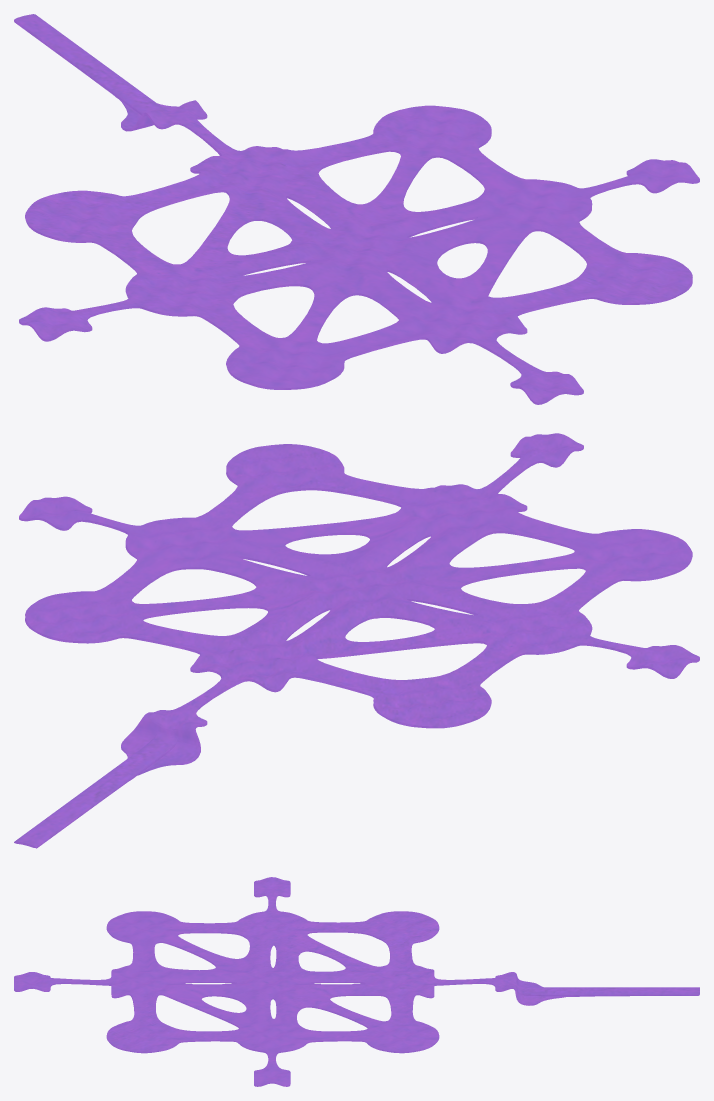
Rendered from Ground_Main.fbx.
3 renders of one model, top to bottom at view 1: azimuth 30°, elevation 25°; view 2: azimuth 150°, elevation 25°; view 3: azimuth 270°, elevation 25°, orthographic. The views are drawn at different scales.
Visible parts, largest first — view 1: Ground_main.003; view 2: Ground_main.003; view 3: Ground_main.003.
Boxes of the visible parts, x1,y1,x2,y2 form: Ground_main.003: [14, 14, 699, 404]; Ground_main.003: [14, 433, 699, 848]; Ground_main.003: [14, 877, 699, 1086].
Bounding box in the file's own units: 127 × 180 × 4.44.
